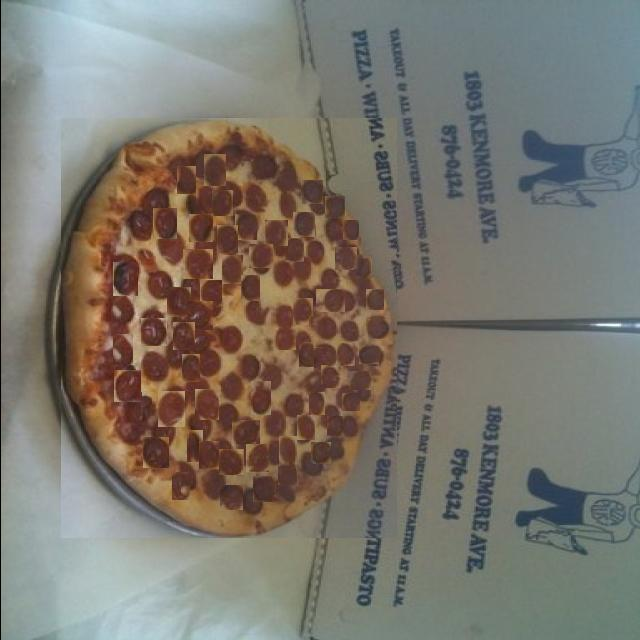pepperoni: (129, 224, 156, 260), (157, 391, 184, 427), (214, 394, 239, 432), (182, 249, 212, 279), (110, 262, 136, 296), (113, 370, 140, 402), (141, 274, 169, 304), (160, 240, 187, 270), (142, 437, 168, 468), (186, 301, 212, 330), (152, 208, 176, 239), (194, 389, 218, 420), (147, 357, 174, 384), (140, 318, 166, 346), (231, 420, 259, 446), (203, 154, 225, 187), (166, 287, 190, 317), (308, 316, 338, 340), (302, 258, 327, 286), (222, 361, 246, 390), (192, 478, 216, 507), (250, 381, 270, 415), (188, 214, 212, 242), (129, 417, 153, 445), (315, 289, 344, 312), (218, 449, 243, 475), (219, 303, 243, 330), (198, 339, 222, 366), (245, 444, 268, 472), (246, 330, 270, 356), (250, 476, 274, 502), (112, 334, 132, 365), (172, 322, 194, 350), (221, 255, 242, 284), (264, 220, 287, 246), (219, 486, 242, 512), (237, 188, 258, 216), (216, 225, 237, 253), (198, 441, 219, 469), (248, 244, 272, 268), (240, 141, 262, 167), (234, 214, 256, 240), (199, 280, 221, 306), (292, 212, 314, 237), (211, 190, 232, 216), (292, 298, 312, 325), (278, 436, 296, 466), (176, 166, 195, 194), (270, 154, 294, 176), (319, 226, 339, 252), (263, 266, 283, 292), (273, 369, 292, 396), (186, 430, 202, 462), (334, 247, 356, 270), (301, 180, 322, 204), (181, 354, 199, 382), (171, 472, 189, 500), (273, 400, 293, 425), (240, 275, 259, 301), (273, 328, 295, 350), (338, 314, 362, 334), (267, 192, 287, 215), (292, 376, 312, 399), (284, 238, 303, 262), (347, 280, 362, 310), (296, 415, 314, 440), (324, 196, 344, 218), (367, 319, 389, 339), (320, 366, 340, 388), (310, 442, 330, 464), (348, 371, 370, 390), (336, 343, 354, 366), (298, 342, 314, 367), (365, 290, 383, 312), (355, 255, 371, 278), (308, 392, 324, 415), (277, 466, 296, 485), (358, 348, 378, 366), (313, 348, 327, 372), (341, 393, 359, 411), (342, 220, 358, 240), (326, 416, 342, 436), (136, 392, 154, 407)
pizza: (60, 118, 396, 538)
